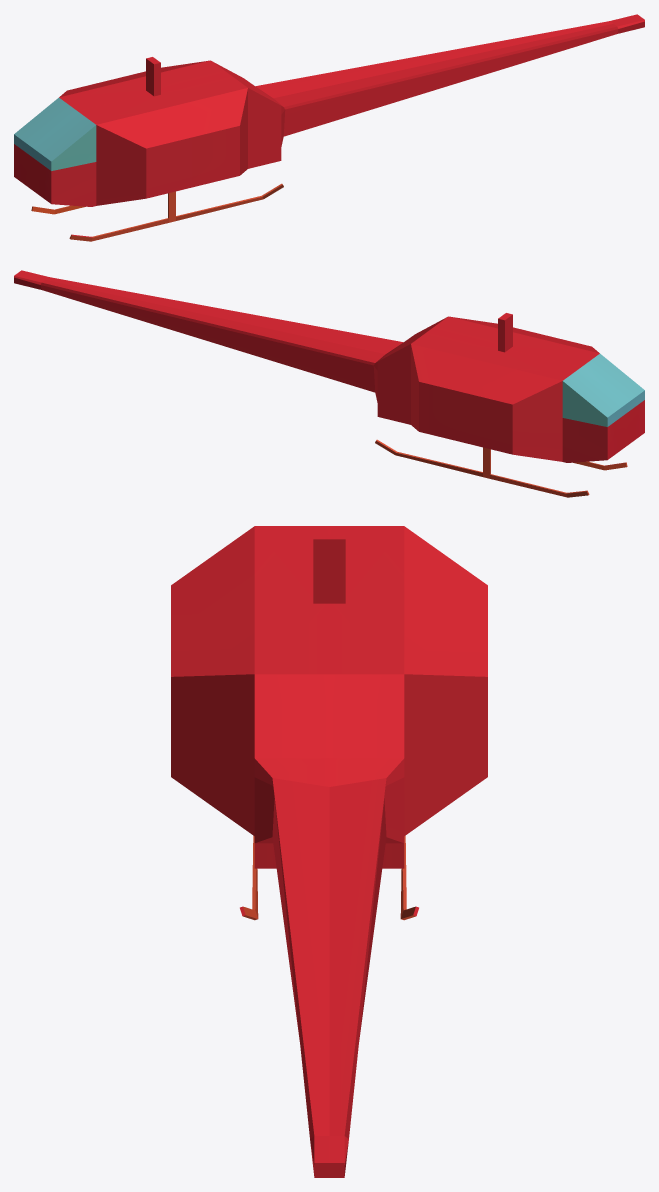
File: heli.fbx
The picture shows the model from 3 angles, top to bottom: view 1: azimuth 30°, elevation 25°; view 2: azimuth 150°, elevation 25°; view 3: azimuth 270°, elevation 25°; orthographic projection. The views are drawn at different scales.
Visible parts, largest first — view 1: Cube; view 2: Cube; view 3: Cube.
Part boxes in pixels (x1=…): Cube: x1=14, y1=14, x2=644, y2=241; Cube: x1=14, y1=270, x2=644, y2=497; Cube: x1=171, y1=526, x2=487, y2=1177.
Bounding box in the file's own units: 3005 × 696 × 678.
